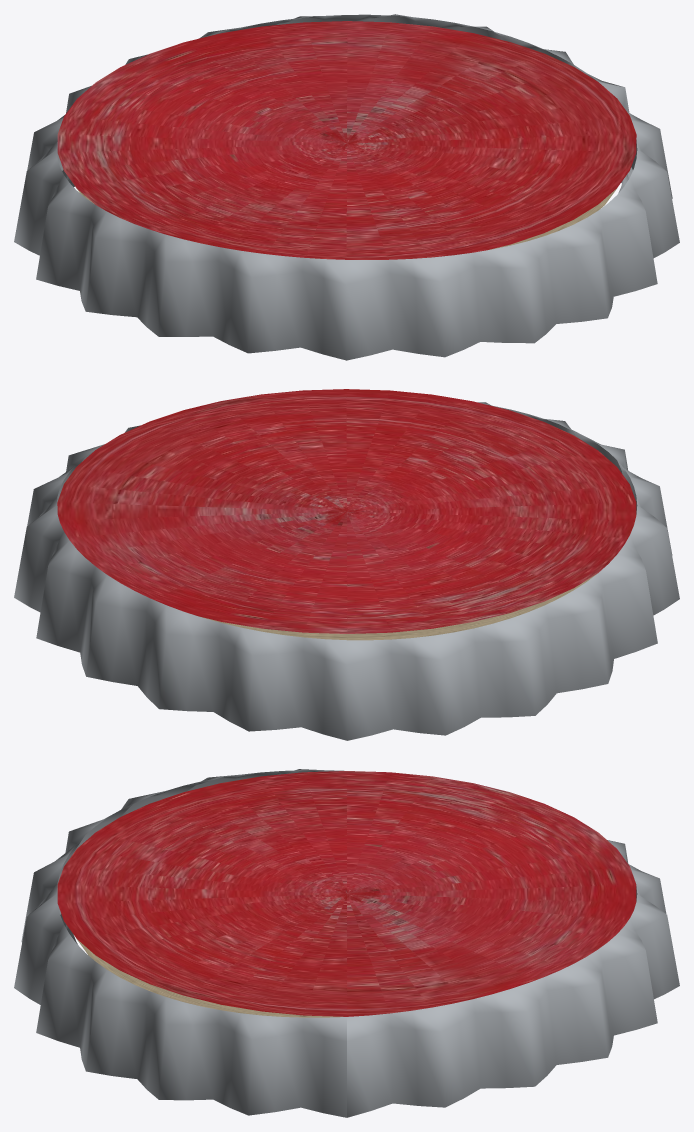
The model's file is guti_bottle_cap.glb.
The picture shows the model from 3 angles, top to bottom: view 1: azimuth 30°, elevation 25°; view 2: azimuth 150°, elevation 25°; view 3: azimuth 270°, elevation 25°; orthographic projection.
Visible parts, largest first — view 1: guti_bottle_cap; view 2: guti_bottle_cap; view 3: guti_bottle_cap.
Part boxes in pixels (x1,y1,x2,y2): guti_bottle_cap: [14, 14, 679, 360]; guti_bottle_cap: [14, 389, 679, 740]; guti_bottle_cap: [14, 769, 679, 1117].
Bounding box in the file's own units: 0.025 × 0.004 × 0.025.
Materials: 3 (2 with a texture image).
